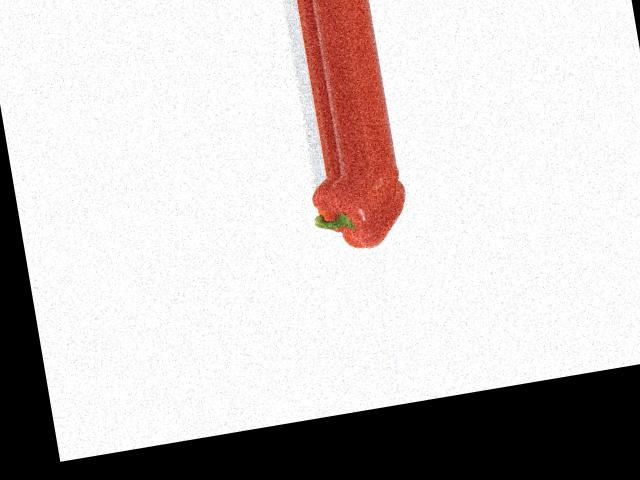bell_pepper: (295, 163, 423, 259)
